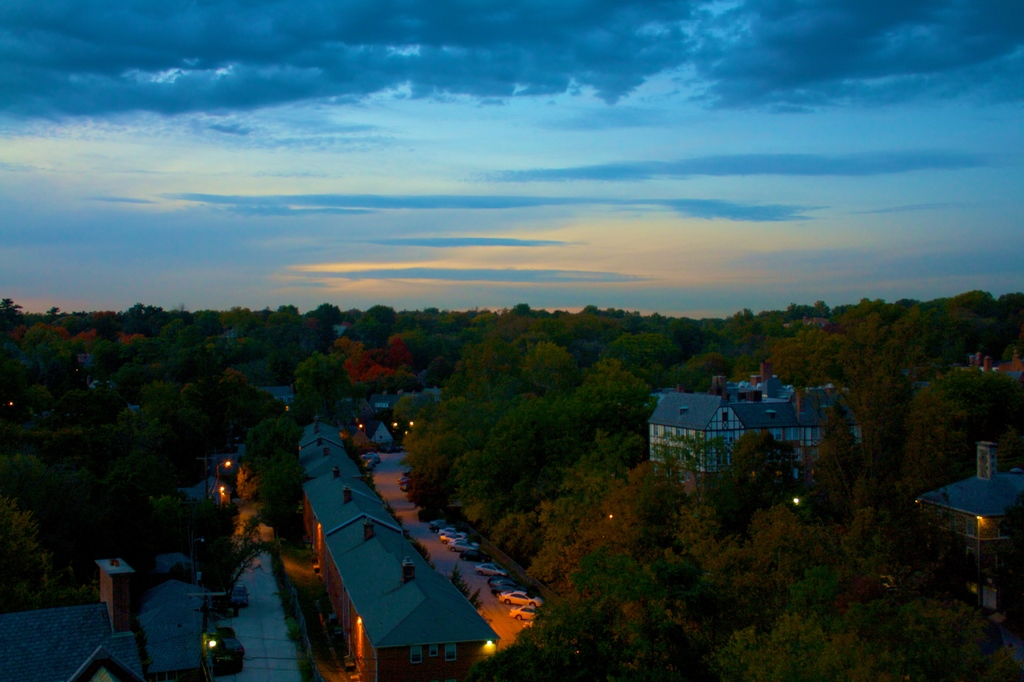Tree: (1, 278, 1023, 681), (454, 421, 549, 554)
